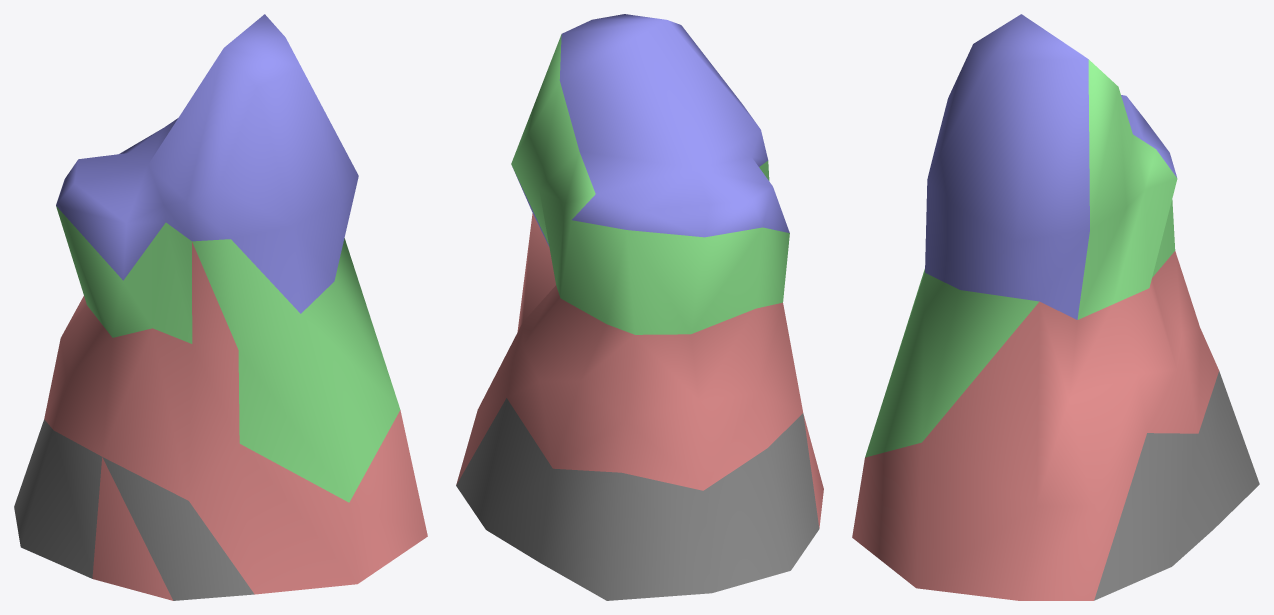
3 renders of one model, left to right at view 1: azimuth 30°, elevation 25°; view 2: azimuth 150°, elevation 25°; view 3: azimuth 270°, elevation 25°, orthographic. The views are drawn at different scales.
Visible parts, largest first — view 1: O_DE_MT_obj03; view 2: O_DE_MT_obj03; view 3: O_DE_MT_obj03.
Boxes of the visible parts, <box> form: O_DE_MT_obj03: <box>14,14,427,600</box>; O_DE_MT_obj03: <box>456,14,823,600</box>; O_DE_MT_obj03: <box>852,14,1259,600</box>.
Size of the model in its own units: 8.39 by 11.43 by 8.48.
